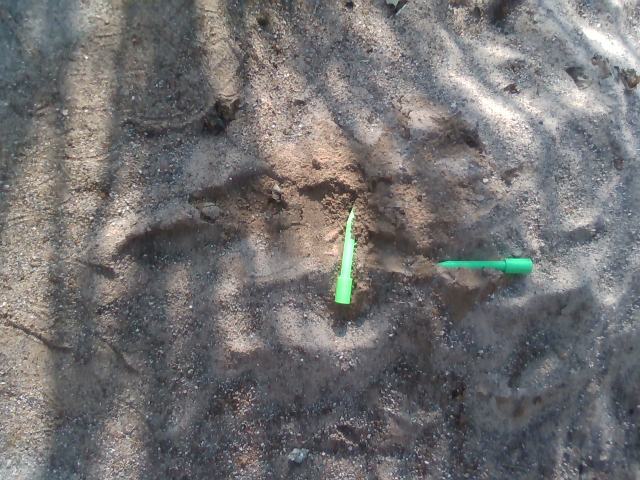Probe: (331, 193, 363, 308), (422, 253, 538, 278)
